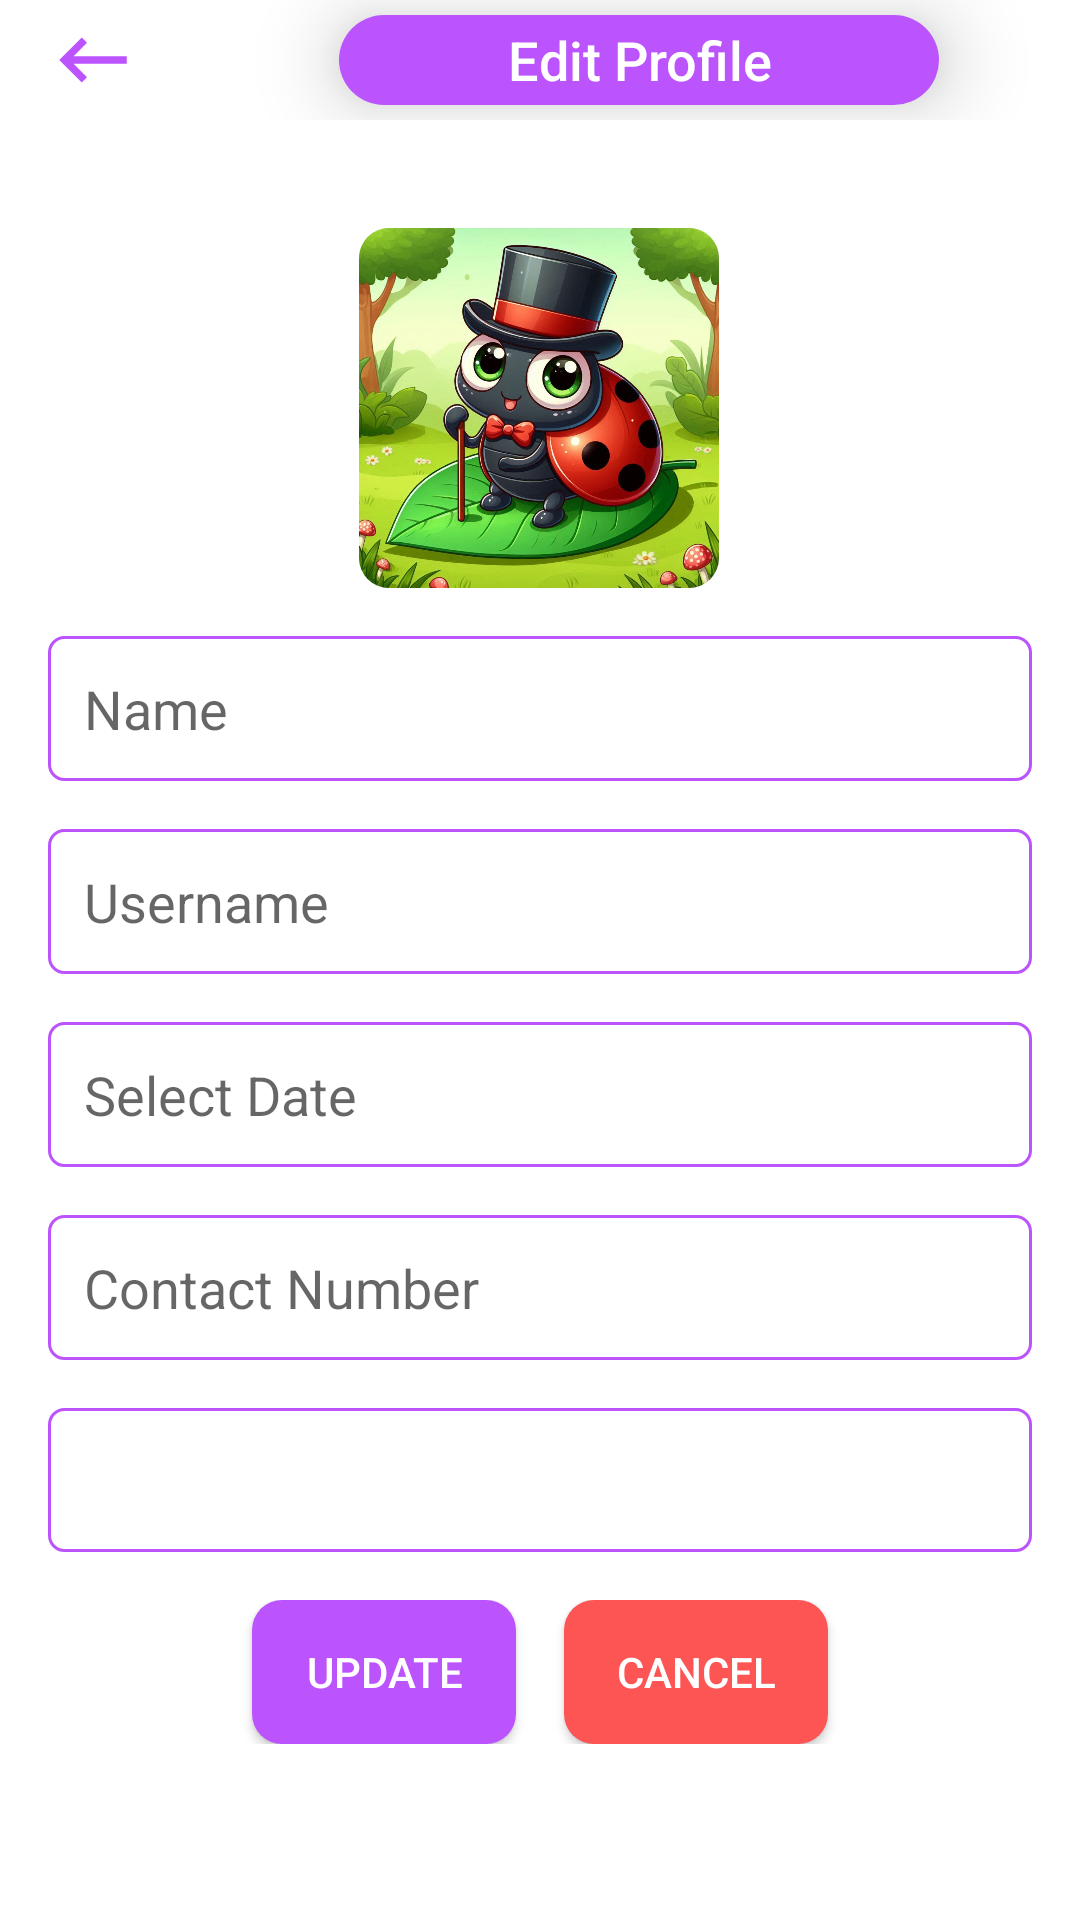

Named icons in this screenshot (1080px x 1920px) and their bounding boxes, (x1, y1, x2, y2):
keyboard backspace: (59, 37, 127, 83)
lady bug: (359, 228, 719, 588)
